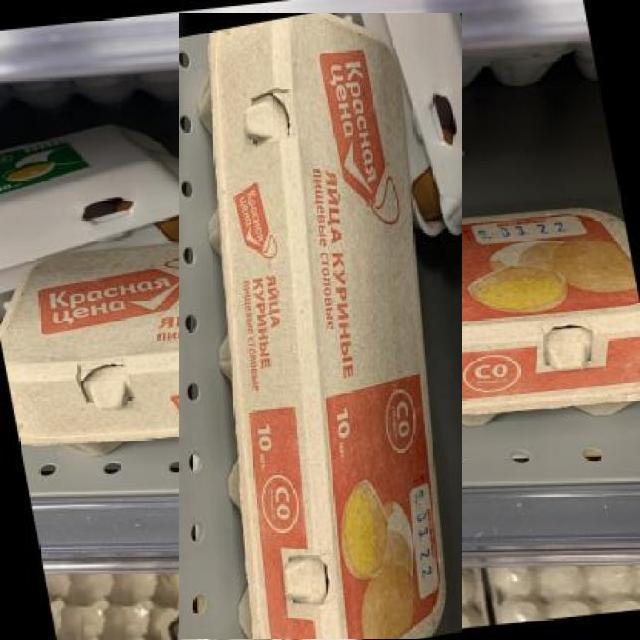Egg: (178, 14, 462, 640)
